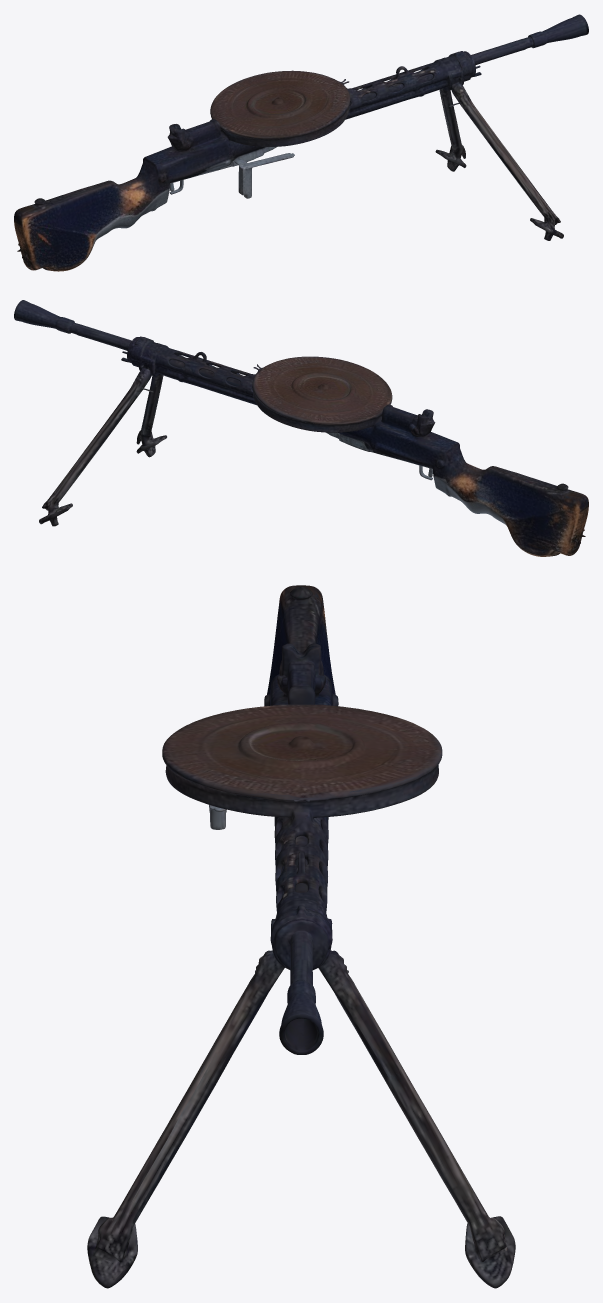
The model's file is wpn_dp27.glb.
The picture shows the model from 3 angles, top to bottom: view 1: azimuth 30°, elevation 25°; view 2: azimuth 150°, elevation 25°; view 3: azimuth 270°, elevation 25°; orthographic projection. The views are drawn at different scales.
Visible parts, largest first — view 1: node_0; view 2: node_0; view 3: node_0.
Boxes of the visible parts, left/top/right/bottom form: node_0: left=14, top=14, right=588, bottom=271; node_0: left=14, top=300, right=588, bottom=556; node_0: left=87, top=585, right=515, bottom=1288.
Bounding box in the file's own units: 1.16 × 0.3348 × 0.3799.
1 material, 1 textured.
